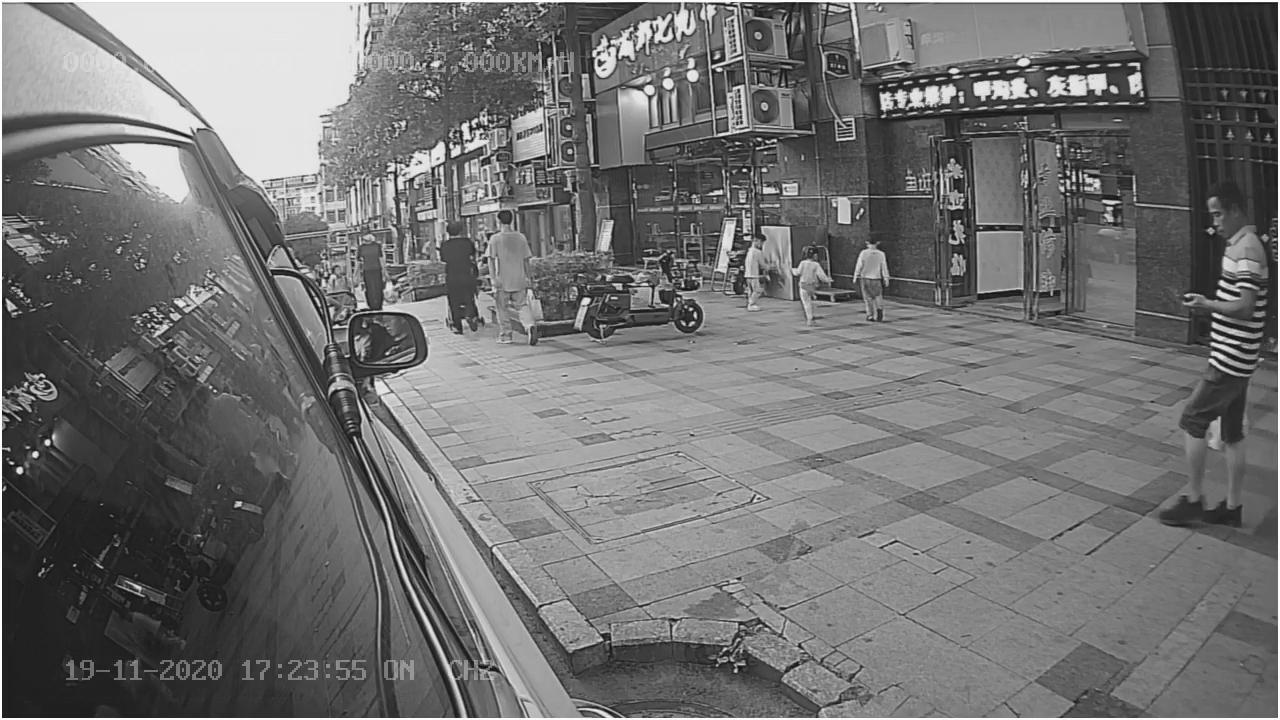person: (1167, 181, 1275, 534), (479, 209, 544, 352), (430, 210, 485, 333), (846, 231, 893, 326), (785, 241, 836, 326), (738, 228, 770, 313)
